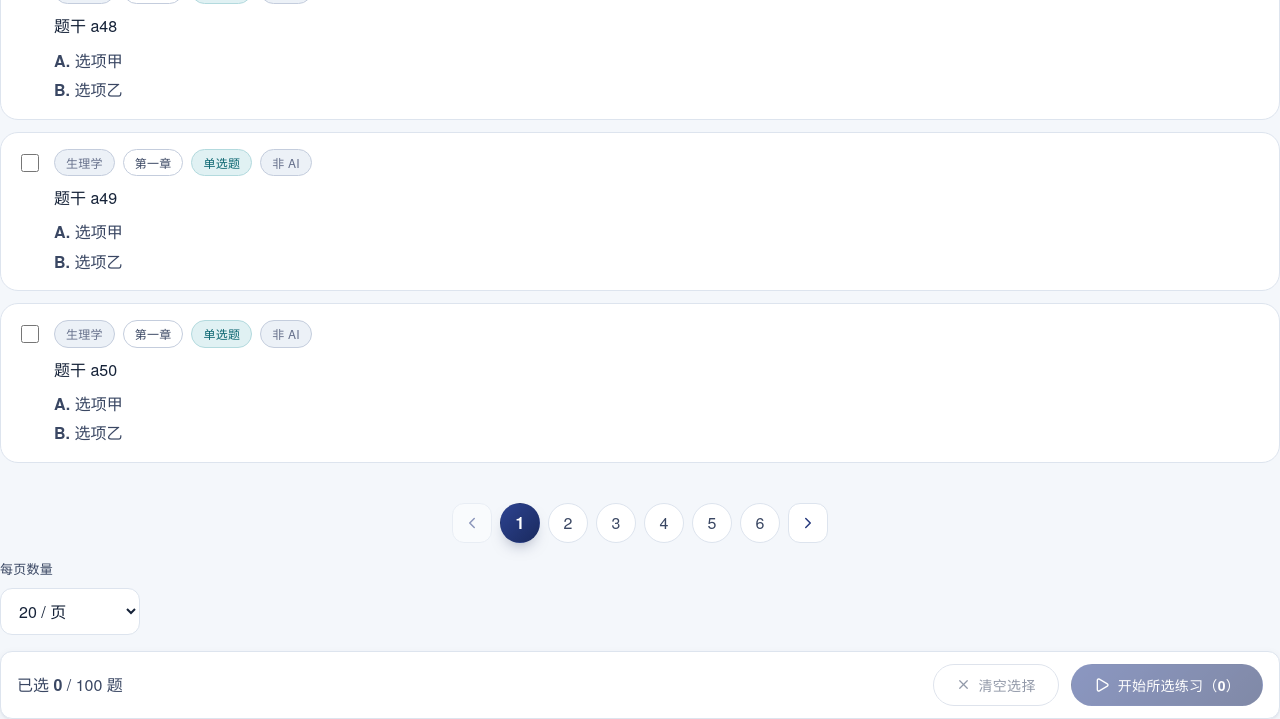
Test: QuizLibrary › caps the selection at 100 questions and explains the limit
(page scrolled)
Select "50 / 页" in the dropdown with id "library-page-size". click: {"x": 70, "y": 611}
box: x1=0 y1=588 x2=140 y2=635
(page scrolled)
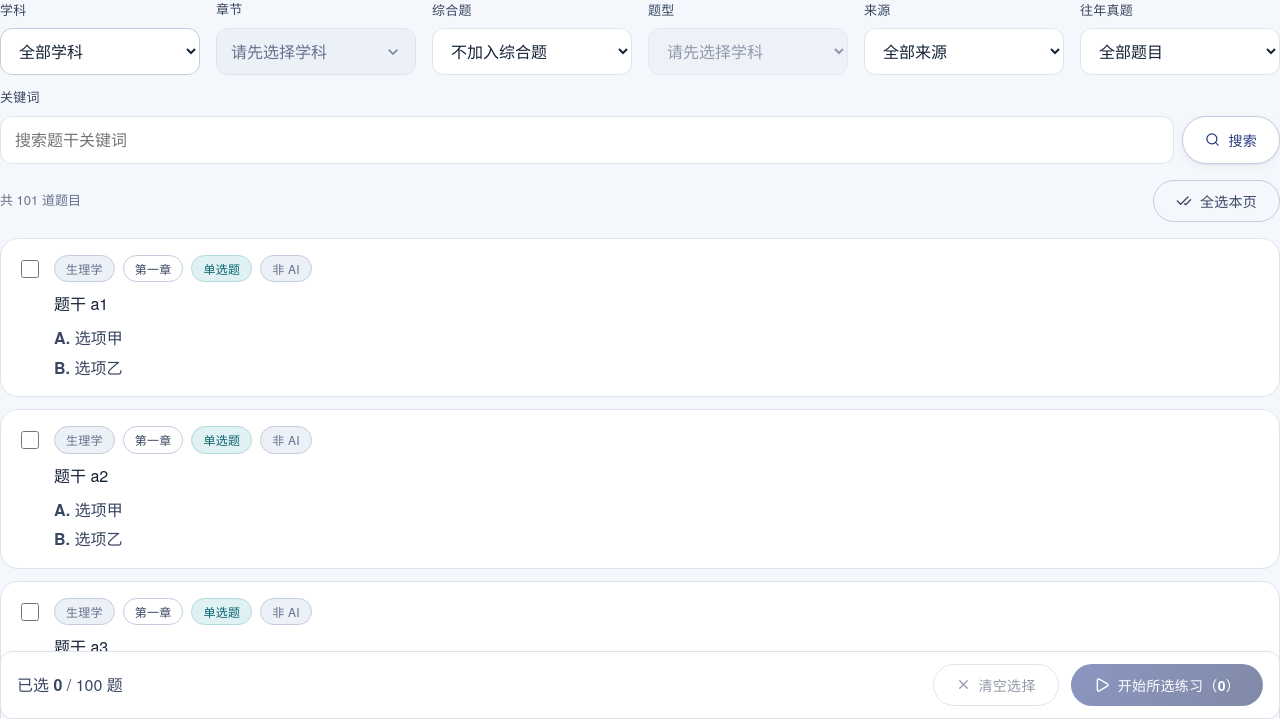
Click the button "全选本页". click: {"x": 1216, "y": 201}
box: x1=1153 y1=180 x2=1279 y2=222
(page scrolled)
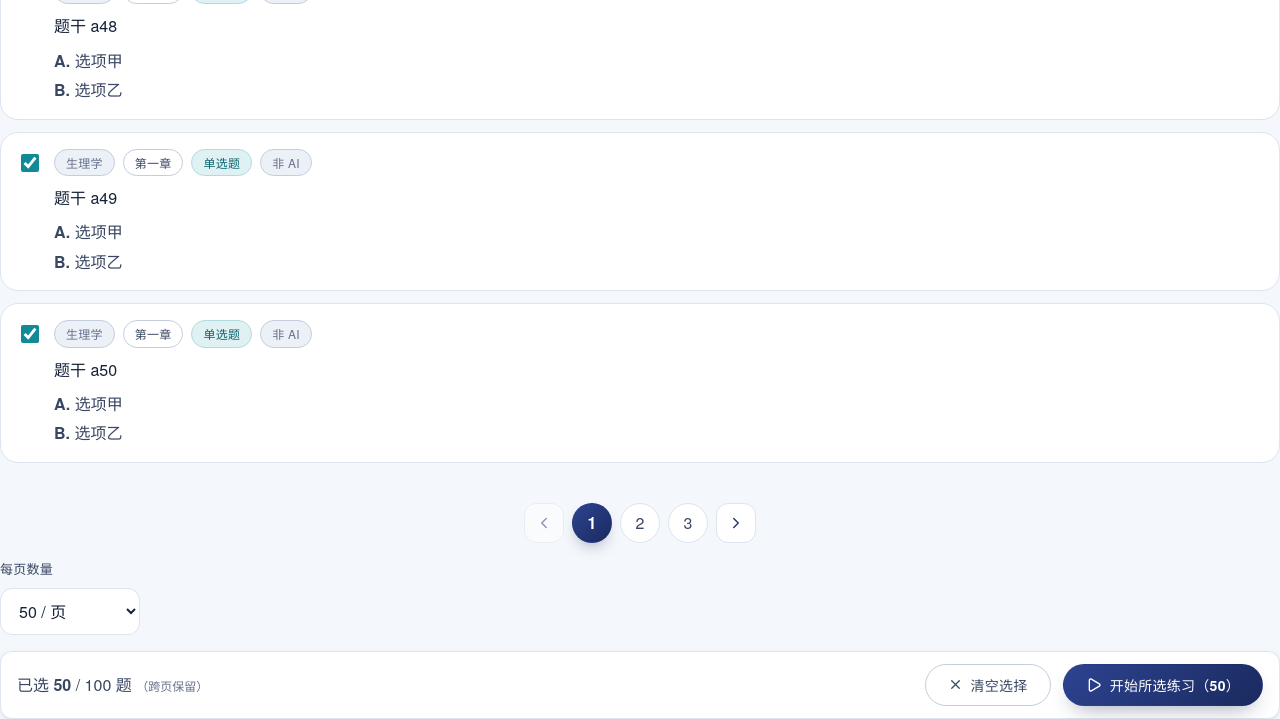
Now the message with class "selection-count" shows "50", box x1=54 y1=673 x2=71 y2=696
Click the button named "下一页". click: {"x": 736, "y": 523}
box: x1=716 y1=503 x2=756 y2=543
(page scrolled)
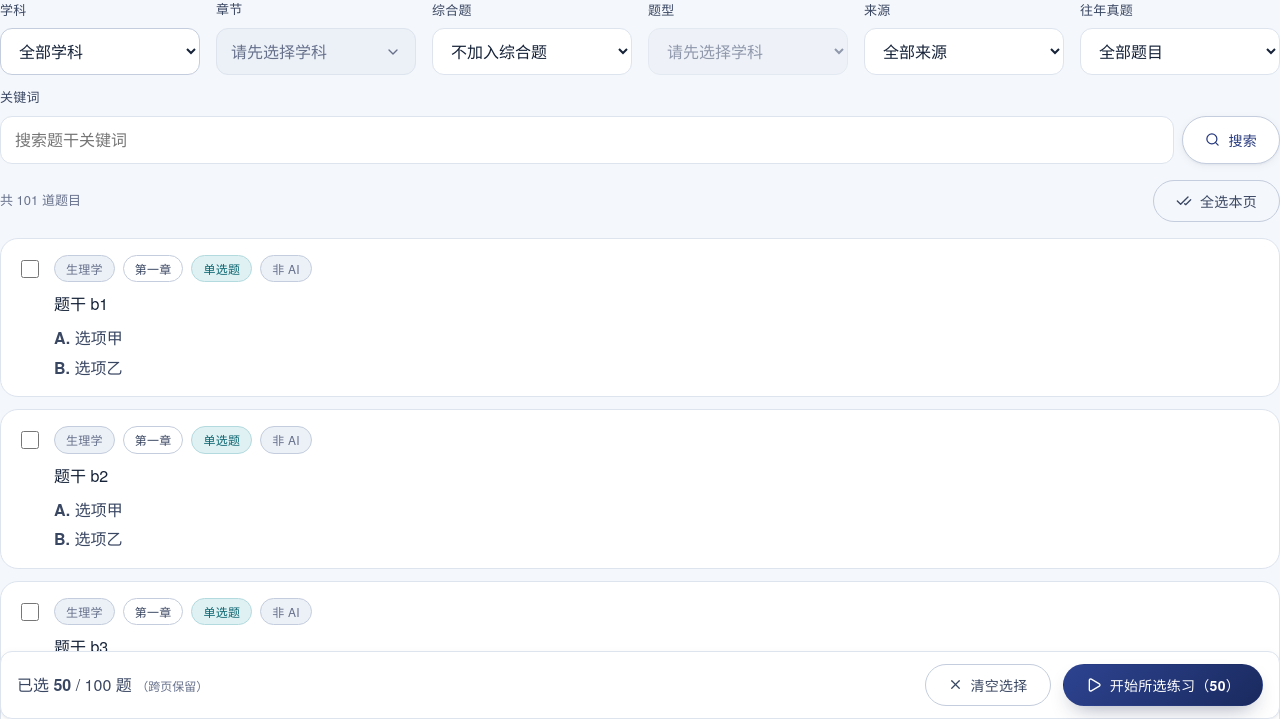
Click the button "全选本页". click: {"x": 1216, "y": 201}
box: x1=1153 y1=180 x2=1279 y2=222
(page scrolled)
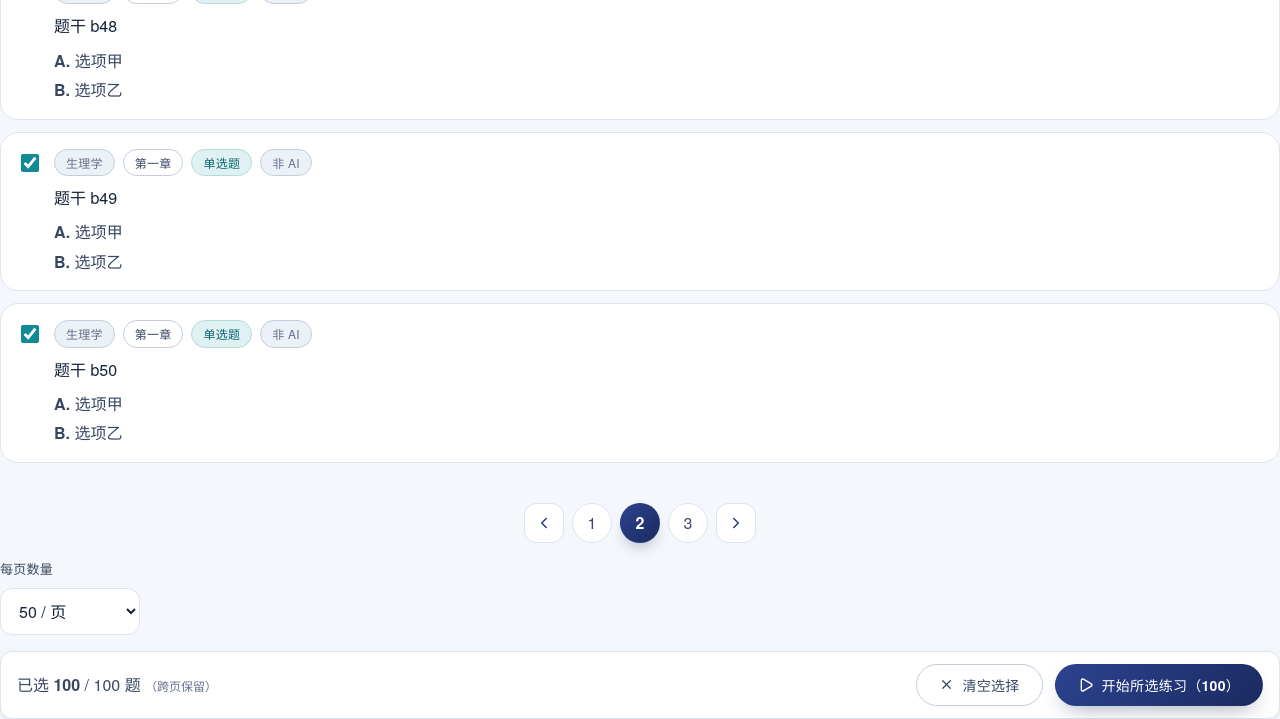
Expected: the message with class "selection-count" shows "100", x1=54 y1=673 x2=80 y2=696
Click the button named "下一页". click: {"x": 736, "y": 523}
box: x1=716 y1=503 x2=756 y2=543
(page scrolled)
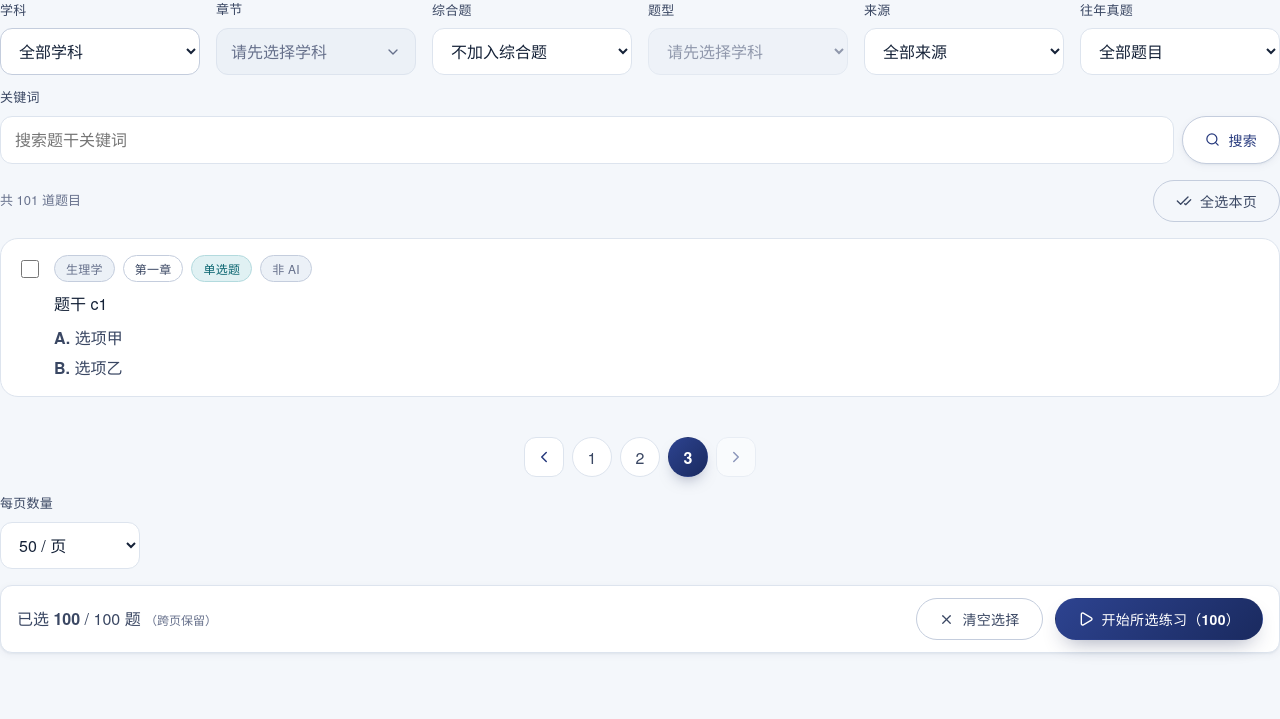
Click the button "全选本页". click: {"x": 1216, "y": 201}
box: x1=1153 y1=180 x2=1279 y2=222
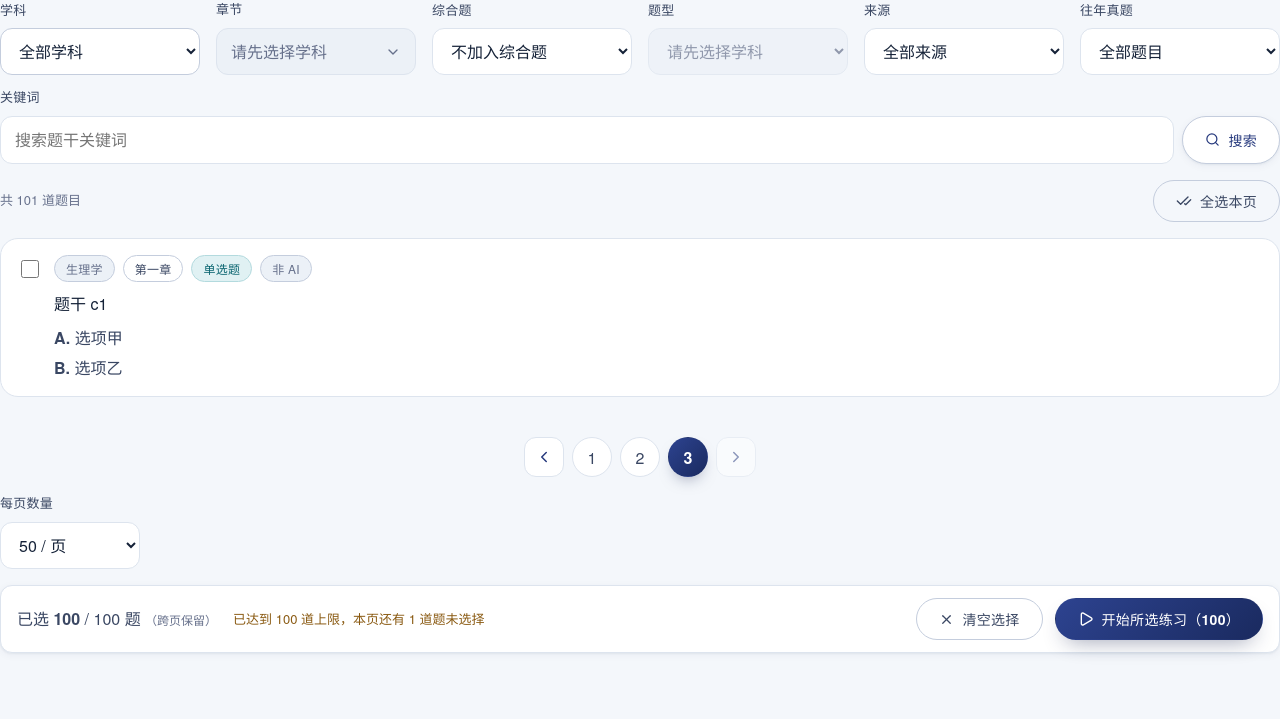
Expected: the message with class "selection-count" shows "100", x1=54 y1=607 x2=80 y2=630
Now the message with class "selection-hint" shows "达到 100 道上限", box x1=233 y1=609 x2=484 y2=628
Now the message with class "selection-hint" shows "还有 1 道题未选择", box x1=233 y1=609 x2=484 y2=628
